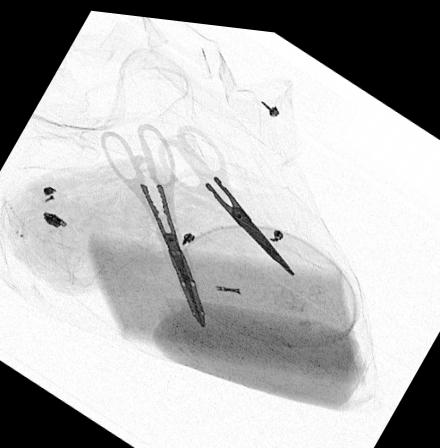Scissors: (99, 117, 205, 323), (155, 118, 296, 267)
